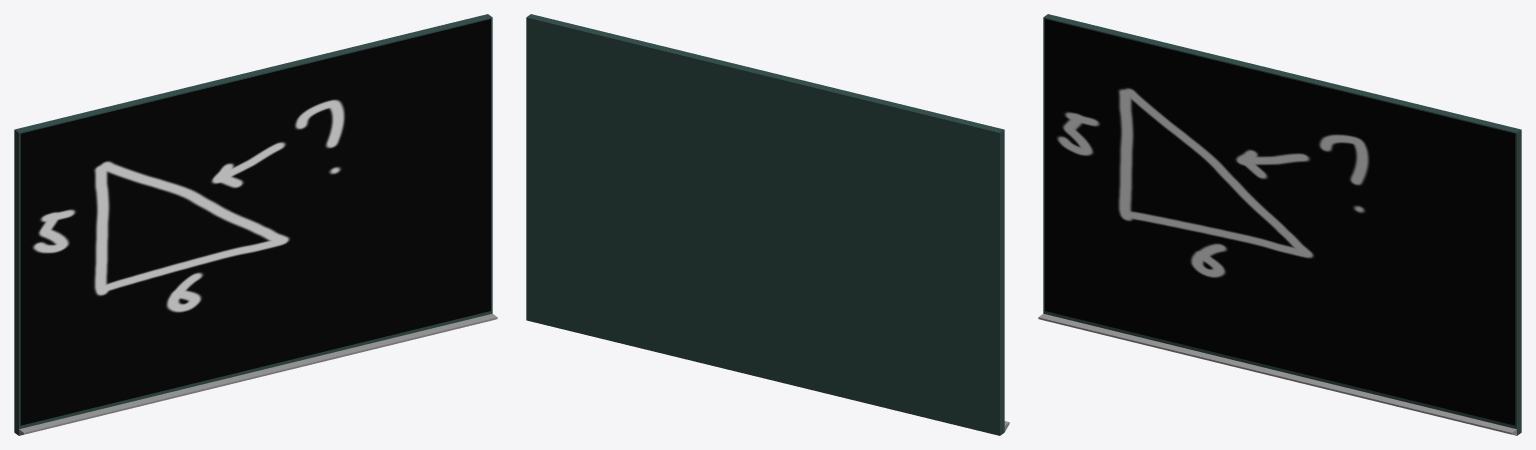
File: school_board.glb
3 views of the same model, side by side, from view 1: azimuth 30°, elevation 25°; view 2: azimuth 150°, elevation 25°; view 3: azimuth 330°, elevation 25° (orthographic).
Parts seen in each view (by area): view 1: school_board; view 2: school_board; view 3: school_board.
Part boxes in pixels (<box>): school_board: <box>14,14,497,435</box>; school_board: <box>526,14,1009,435</box>; school_board: <box>1038,14,1521,435</box>.
Bounding box in the file's own units: 2 × 1.22 × 0.0714.
Materials: 3 (1 with a texture image).
